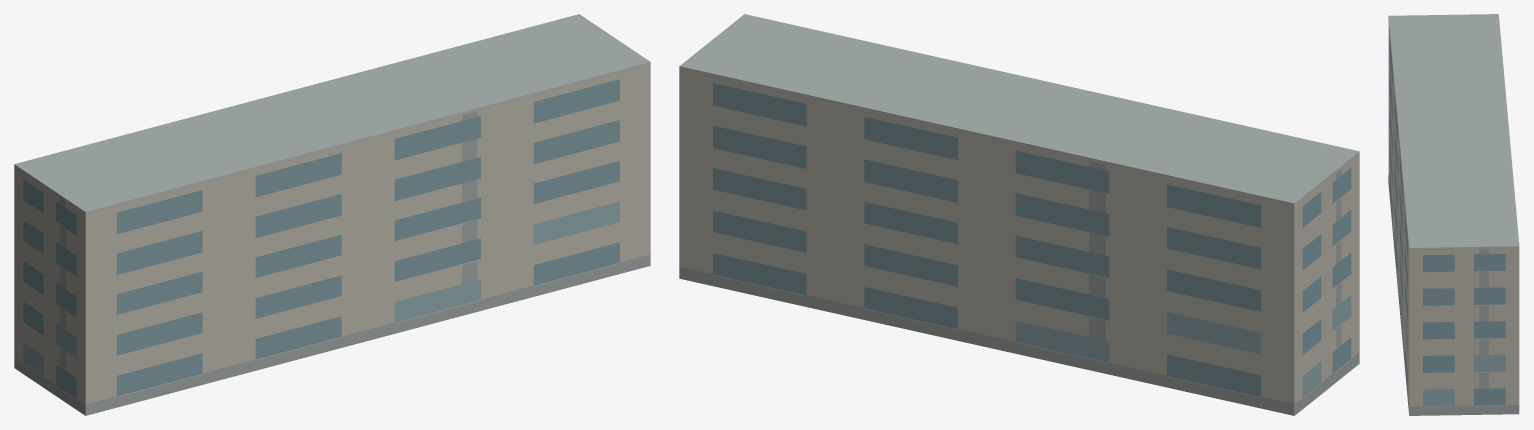
Rendered from residential-ea640f47-df42-4107-b75b-0312e0f1c295.glb.
3 renders of one model, left to right at view 1: azimuth 30°, elevation 25°; view 2: azimuth 150°, elevation 25°; view 3: azimuth 270°, elevation 25°, orthographic. The views are drawn at different scales.
Parts seen in each view (by area): view 1: residential-ea640f47-df42-4107-b75b-0312e0f1c295.tmp; view 2: residential-ea640f47-df42-4107-b75b-0312e0f1c295.tmp; view 3: residential-ea640f47-df42-4107-b75b-0312e0f1c295.tmp.
Boxes of the visible parts, x1,y1,x2,y2 form: residential-ea640f47-df42-4107-b75b-0312e0f1c295.tmp: (14, 14, 650, 415); residential-ea640f47-df42-4107-b75b-0312e0f1c295.tmp: (679, 14, 1359, 415); residential-ea640f47-df42-4107-b75b-0312e0f1c295.tmp: (1388, 14, 1519, 415).
Size of the model in its own units: 45.57 by 15.25 by 10.79.
